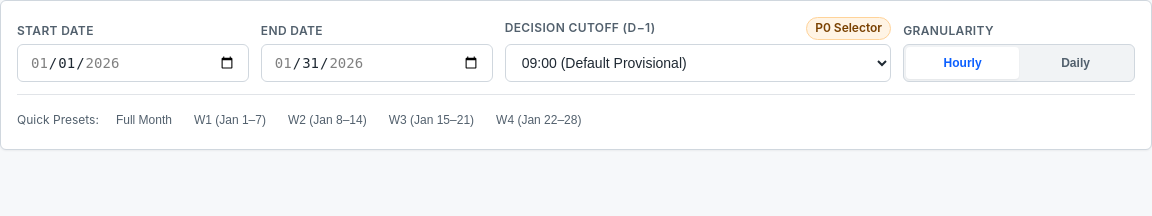
Test: FilterBar › validates start date cannot be after end date
The image size is (1152, 216).
Note: Set start date to 2026-02-01 (after end date 2026-01-31)
Type "2026-02-05" into the date field labelled "Start Date".
click(133, 63); type("2026-02-05")  # box [17,44,249,82]
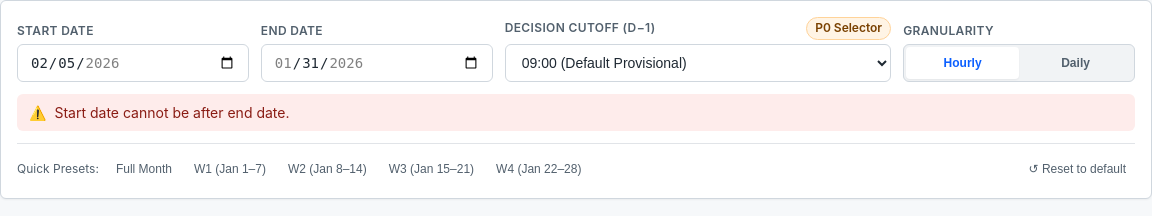
Now the text "⚠️ Start date cannot be after end date." is shown, box [17,94,1135,131]
